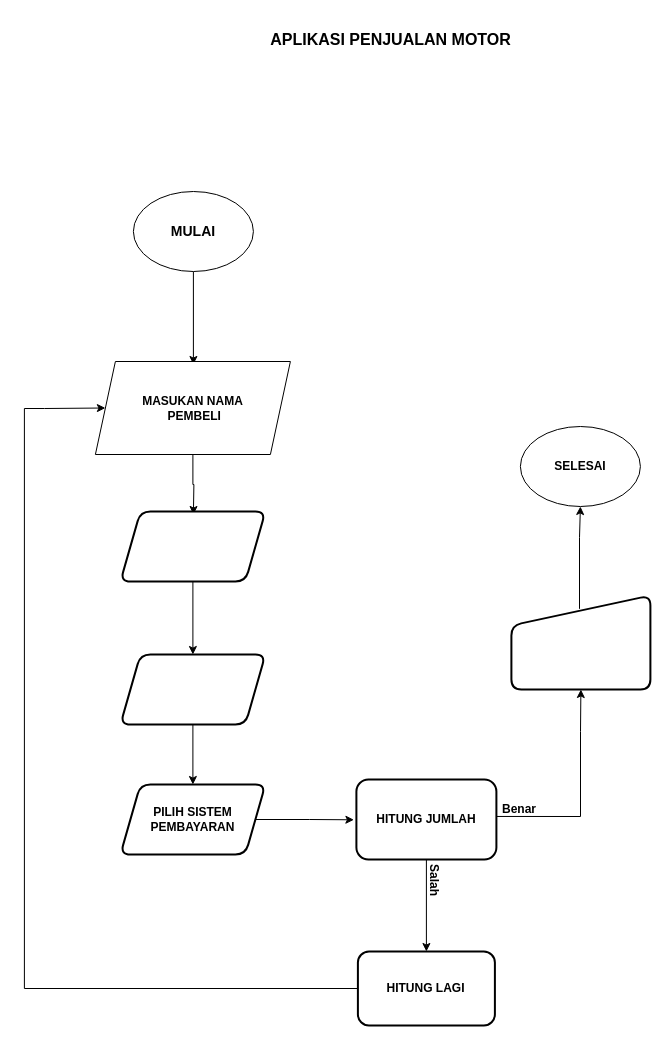
Some shapes in this 669 by 1043 pixel diagram are drawn without their labels. Here are the shapes that lost their labels. From the top down, the box of each, then its label:
(119, 510, 266, 582): PILIH MERK MOTOR
(510, 594, 651, 690): KLIK SELESAI
(119, 653, 266, 725): PILIH JENIS MOTOR
